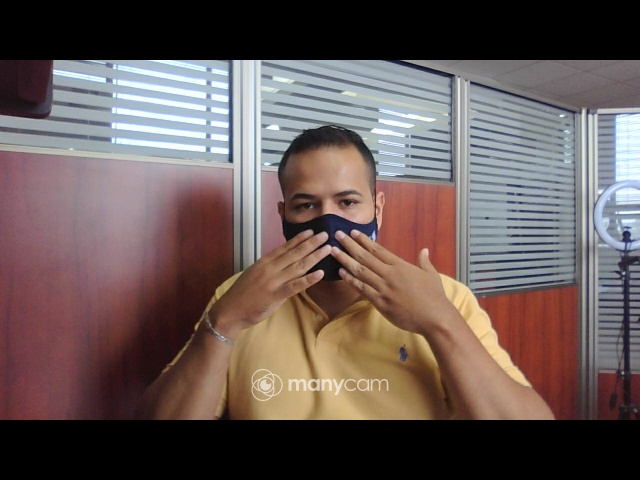Thanks: (227, 224, 465, 344)
